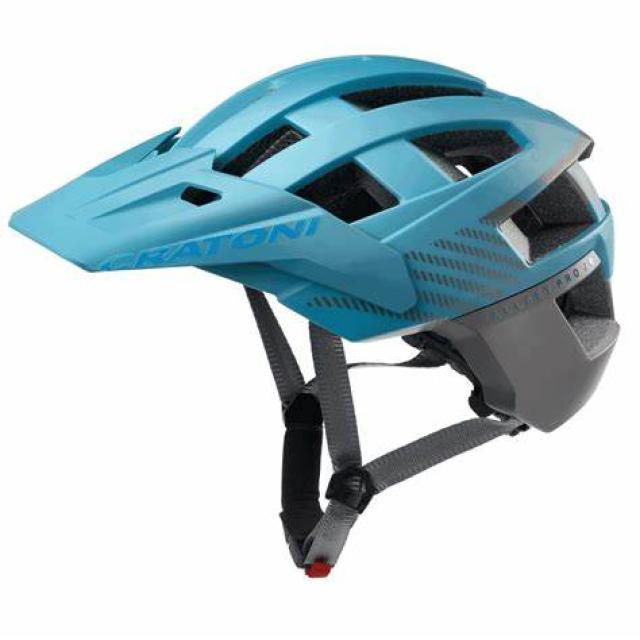illegal_helmet: (2, 42, 626, 587)
